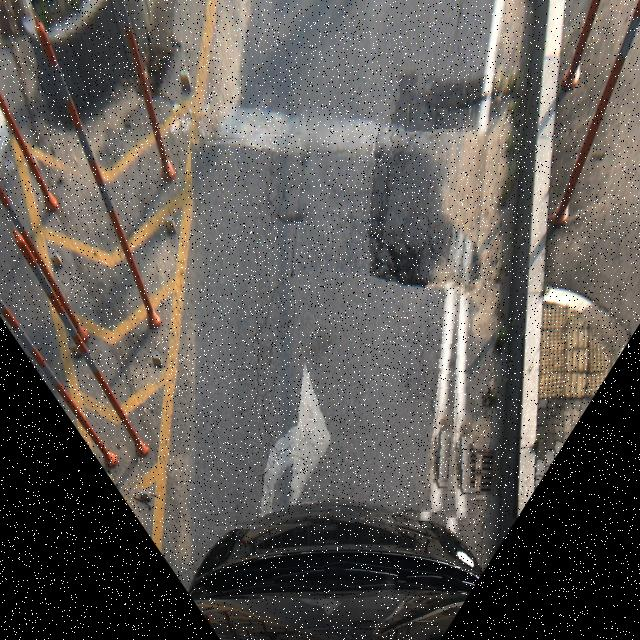right: (195, 132, 472, 527)
